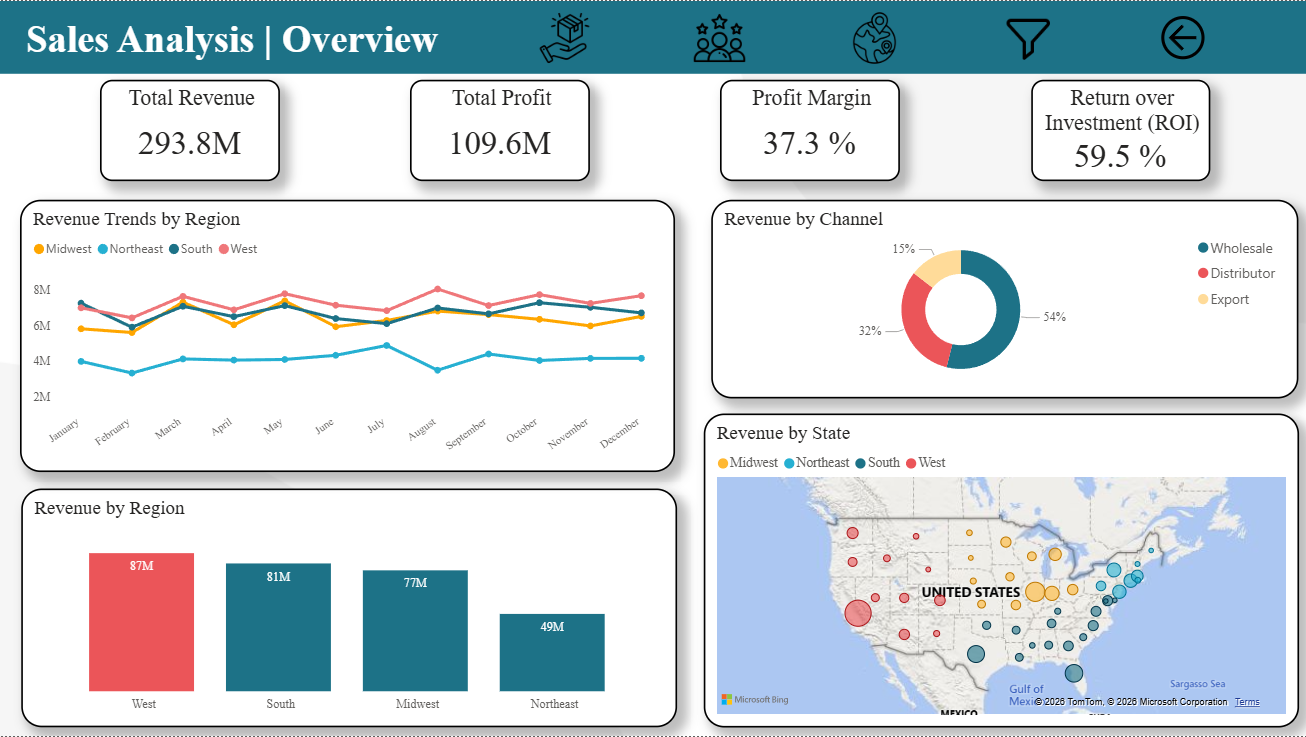

What the dashboard file says about the page in this screenshot:
{"tool":"powerbi","page":{"name":"Overview","canvas":[1280,720],"ordinal":1},"visuals":[{"type":"card","title":"Return over Investment (ROI)","fields":{"Values":["_Measures.ROI"]},"box":[1008.8,77,174.9,99],"z":0},{"type":"shape","box":[0,0,1280.3,71.4],"z":1000},{"type":"textbox","box":[20.8,11,424.3,59.9],"z":2000},{"type":"image","box":[830,11.2,50,50],"z":3000},{"type":"card","title":"Total Revenue","fields":{"Values":["_Measures.Total Revenue"]},"box":[97.5,77.4,176.1,99],"z":4000},{"type":"image","box":[527.5,11.2,50,50],"z":5000},{"type":"card","title":"Total Profit","fields":{"Values":["Sum(sales.profit)"]},"box":[401.1,77.4,176.1,99],"z":6000},{"type":"image","box":[678.8,11.2,50,50],"z":7000},{"type":"card","title":"Profit Margin","fields":{"Values":["_Measures.ROI"]},"box":[704.8,77.4,176.1,99],"z":9000},{"type":"columnChart","title":"Revenue by Region","fields":{"Category":["sales.region"],"Y":["Sum(sales.revenue)"]},"box":[20.8,476.9,642,233.6],"z":10000},{"type":"donutChart","title":"Revenue by Channel","fields":{"Category":["sales.channel"],"Y":["Sum(sales.revenue)"]},"box":[695.8,194.4,574.7,194.4],"z":11000},{"type":"image","title":"Slicer Image","box":[981.2,11.2,50,50],"z":12000},{"type":"map","title":"Revenue by State","fields":{"Series":["sales.region"],"Size":["Sum(sales.revenue)"],"Category":["sales.state_name"]},"box":[688.8,403.8,582.5,307.5],"z":14000},{"type":"actionButton","box":[1129.6,8.7,54.6,54.6],"z":15000},{"type":"lineChart","title":"Revenue Trends by Region","fields":{"Category":["sales.order_date.Variation.Date Hierarchy.Month","sales.order_date.Variation.Date Hierarchy.Day"],"Y":["Sum(sales.revenue)"],"Series":["sales.region"]},"box":[20,194,641,266.2],"z":16000}]}

Visuals, with their boxes in screenshot pixels (x1, y1, x2, y2), scaled from the page's 1280x720 canvas onto the 1306x737 screenshot:
"Return over Investment (ROI)" card: 1029, 79, 1208, 180
shape: 0, 0, 1305, 73
textbox: 21, 11, 454, 73
image: 847, 11, 898, 63
"Total Revenue" card: 99, 79, 279, 181
image: 538, 11, 589, 63
"Total Profit" card: 409, 79, 589, 181
image: 693, 11, 744, 63
"Profit Margin" card: 719, 79, 899, 181
"Revenue by Region" columnChart: 21, 488, 676, 727
"Revenue by Channel" donutChart: 710, 199, 1296, 398
"Slicer Image" image: 1001, 11, 1052, 63
"Revenue by State" map: 703, 413, 1297, 728
actionButton: 1153, 9, 1208, 65
"Revenue Trends by Region" lineChart: 20, 199, 674, 471
